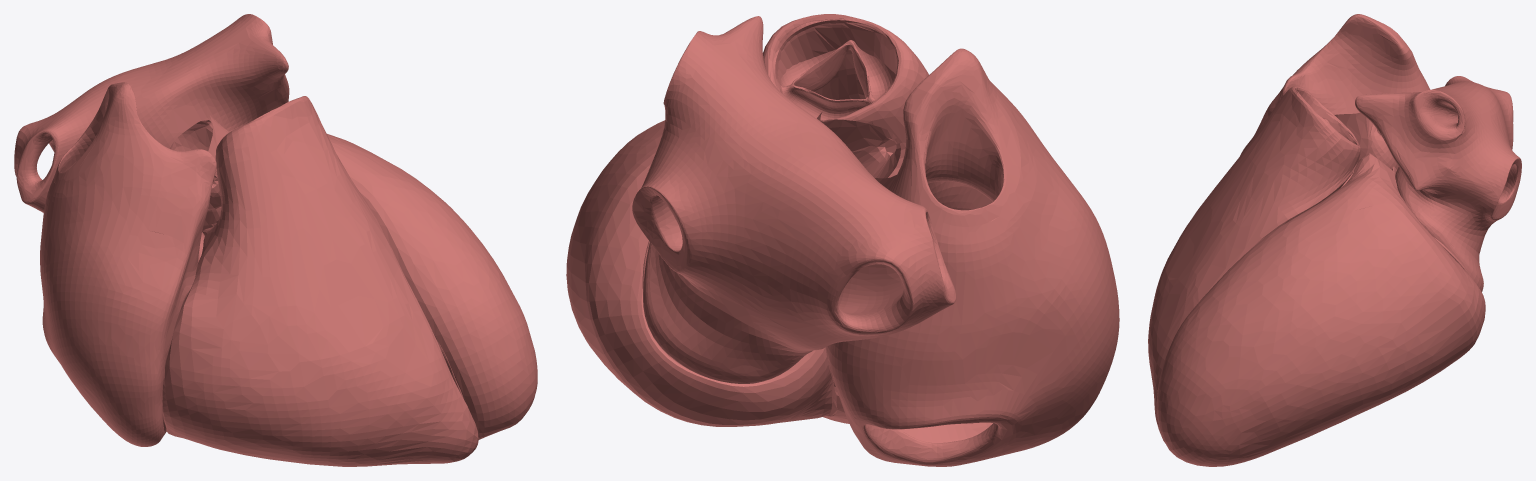
File: heart.glb
The picture shows the model from 3 angles, left to right: view 1: azimuth 30°, elevation 25°; view 2: azimuth 150°, elevation 25°; view 3: azimuth 270°, elevation 25°; orthographic projection. The views are drawn at different scales.
Visible parts, largest first — view 1: VH_M_heart_right_ventricle, VH_M_right_cardiac_atrium, VH_M_heart_left_ventricle, VH_M_left_cardiac_atrium, VH_M_aortic_valve; view 2: VH_M_left_cardiac_atrium, VH_M_right_cardiac_atrium, VH_M_heart_left_ventricle, VH_M_heart_right_ventricle, VH_M_pulmonary_valve, VH_M_aortic_valve; view 3: VH_M_heart_left_ventricle, VH_M_heart_right_ventricle, VH_M_left_cardiac_atrium, VH_M_right_cardiac_atrium, VH_M_aortic_valve.
Part boxes in pixels (x1,y1,x2,y2): VH_M_heart_right_ventricle: (162, 96, 478, 466); VH_M_right_cardiac_atrium: (40, 82, 216, 446); VH_M_heart_left_ventricle: (202, 134, 537, 439); VH_M_left_cardiac_atrium: (14, 14, 289, 212); VH_M_aortic_valve: (170, 114, 229, 210); VH_M_left_cardiac_atrium: (632, 16, 956, 383); VH_M_right_cardiac_atrium: (826, 48, 1119, 466); VH_M_heart_left_ventricle: (566, 120, 833, 426); VH_M_heart_right_ventricle: (763, 14, 928, 423); VH_M_pulmonary_valve: (773, 19, 895, 119); VH_M_aortic_valve: (817, 112, 900, 188); VH_M_heart_left_ventricle: (1156, 153, 1485, 466); VH_M_heart_right_ventricle: (1148, 86, 1360, 442); VH_M_left_cardiac_atrium: (1355, 76, 1521, 291); VH_M_right_cardiac_atrium: (1240, 14, 1429, 155); VH_M_aortic_valve: (1334, 112, 1398, 169).
Size of the model in its own units: 0.1243 by 0.1054 by 0.1052.
